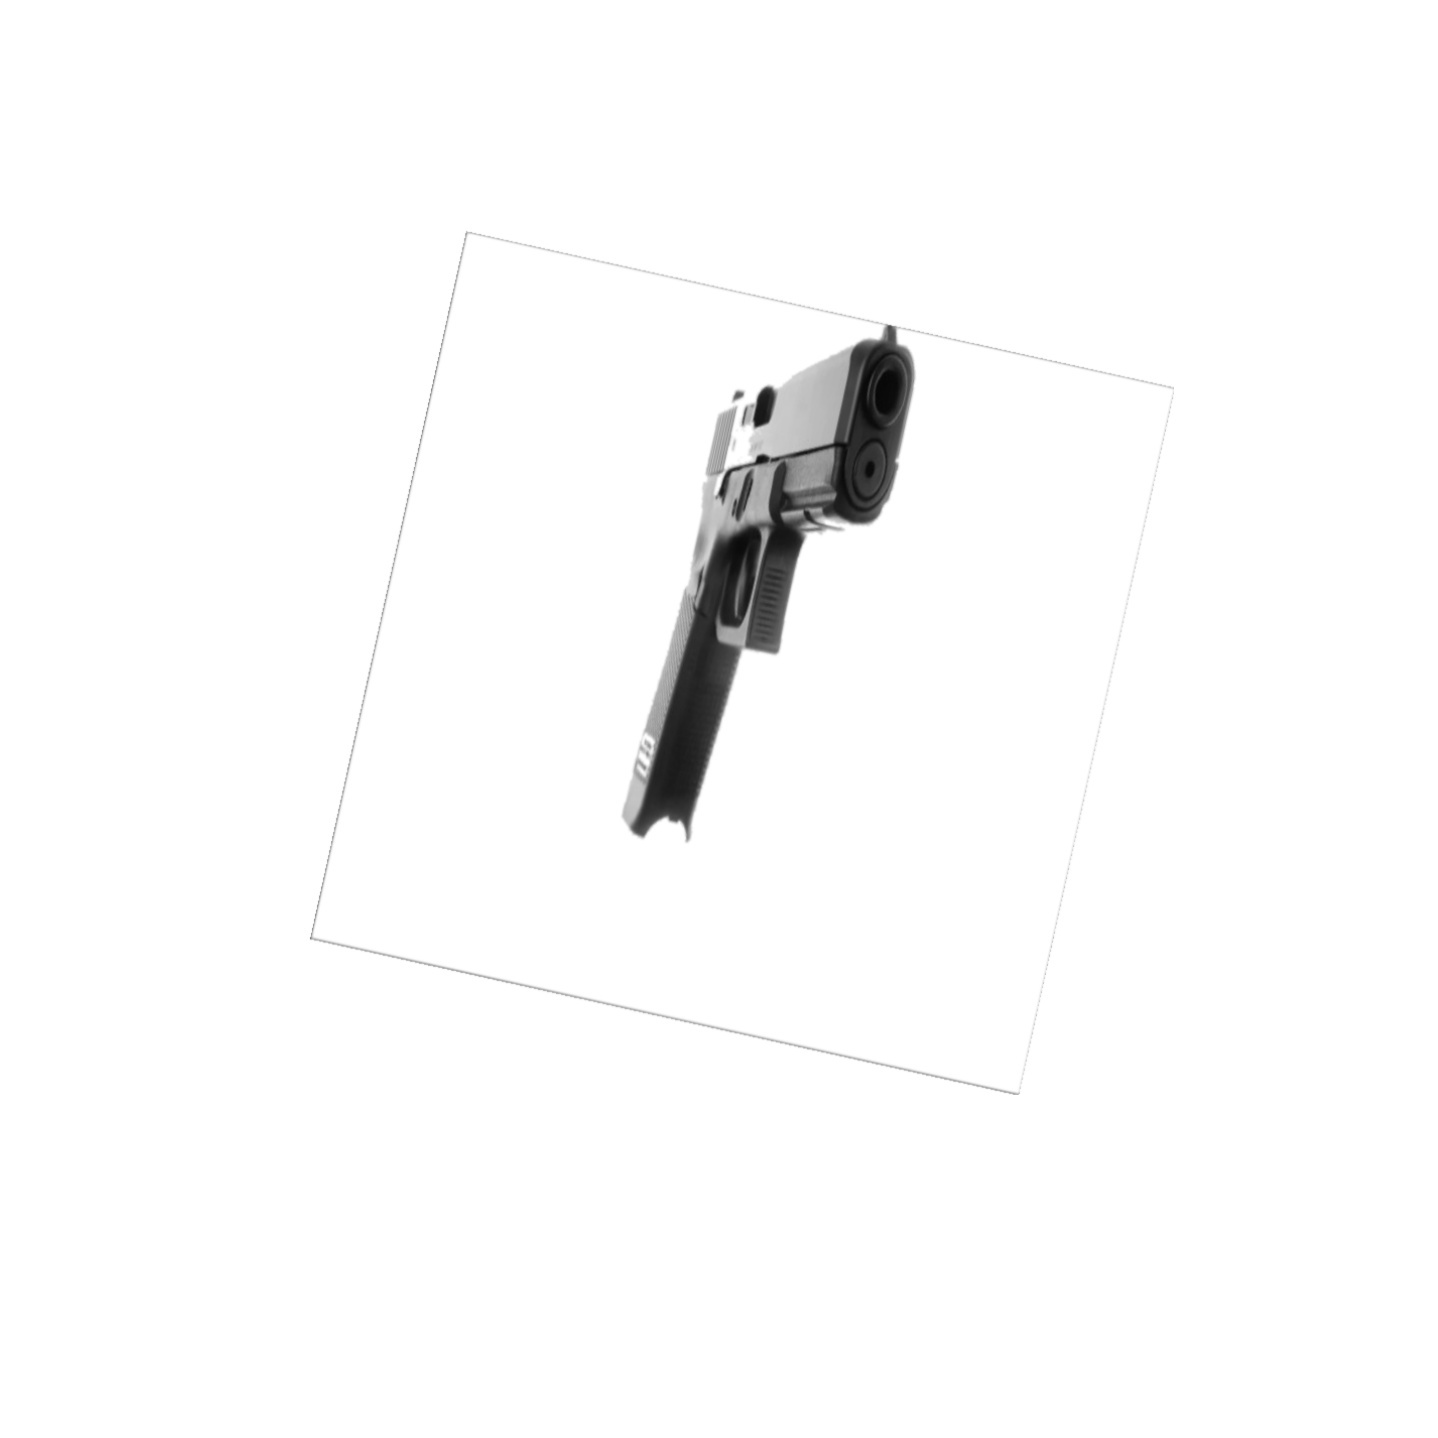gun: (620, 329, 917, 845)
